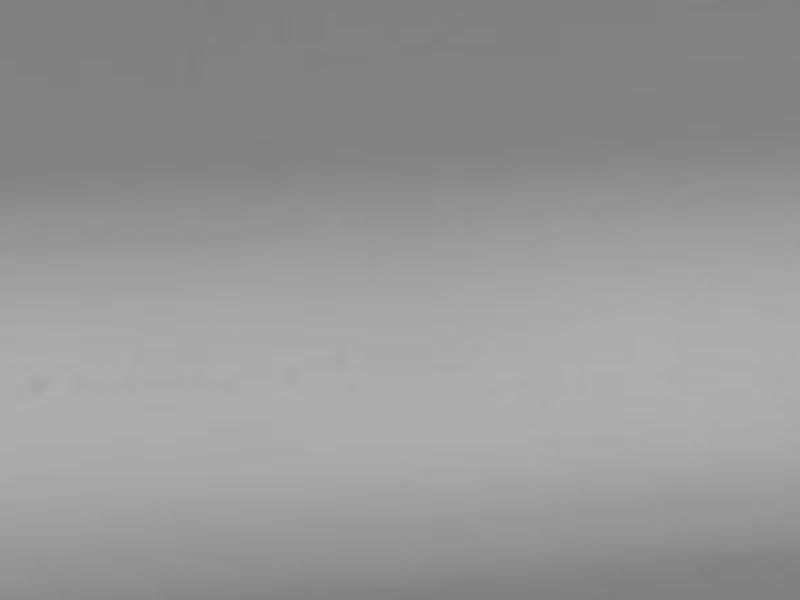defect: (26, 375, 50, 396)
